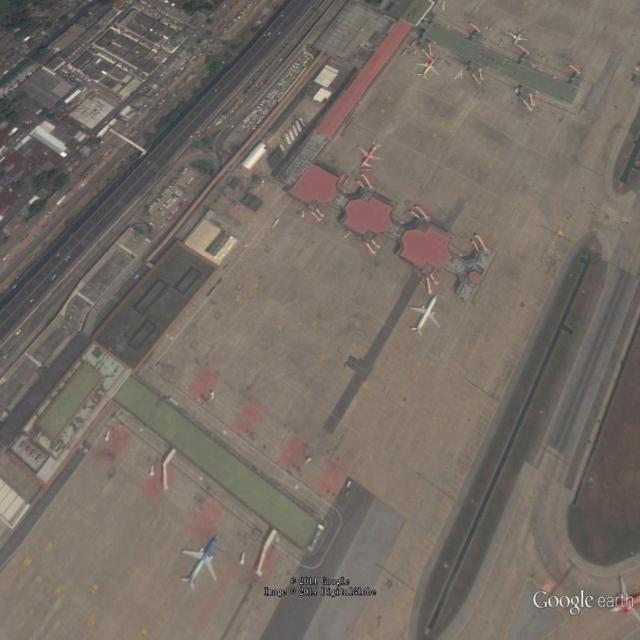aircraft: (179, 534, 222, 597), (407, 295, 445, 340), (356, 140, 385, 171), (415, 55, 443, 83), (508, 27, 531, 47)
